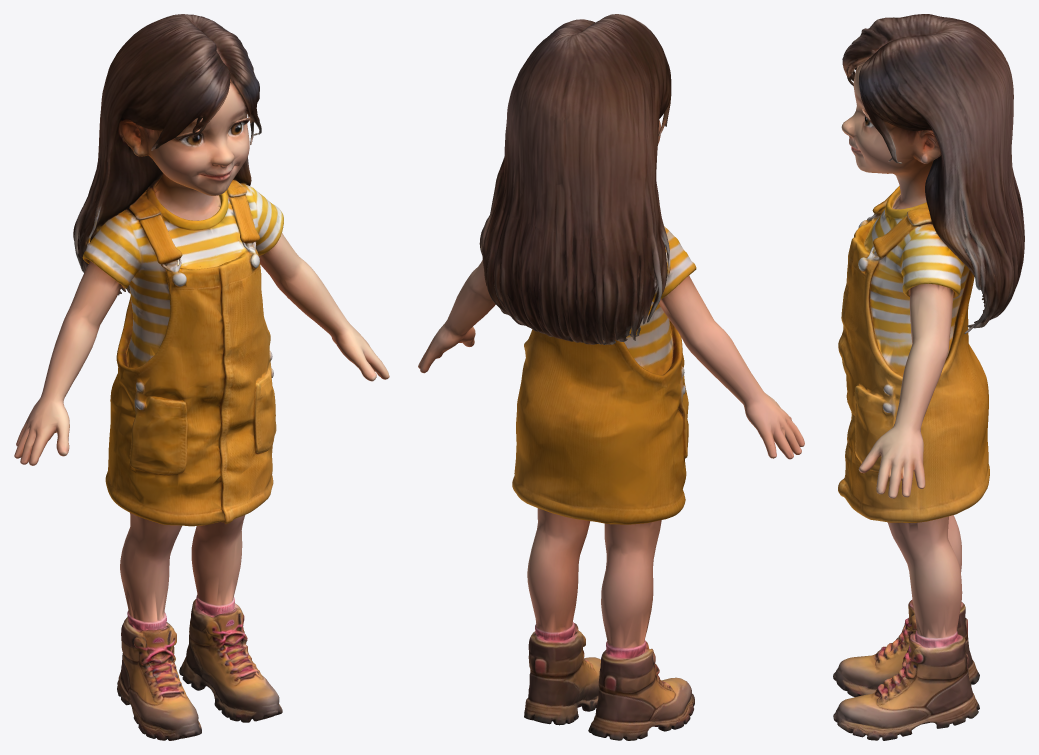
File: anet.glb
3 views of the same model, side by side, from view 1: azimuth 30°, elevation 25°; view 2: azimuth 150°, elevation 25°; view 3: azimuth 270°, elevation 25° (orthographic). The views are drawn at different scales.
Visible parts, largest first — view 1: tripo_node_09285ec5-164b-49de-99ac-8621db518d9a; view 2: tripo_node_09285ec5-164b-49de-99ac-8621db518d9a; view 3: tripo_node_09285ec5-164b-49de-99ac-8621db518d9a.
Boxes of the visible parts, x1,y1,x2,y2 form: tripo_node_09285ec5-164b-49de-99ac-8621db518d9a: (14,14,389,740); tripo_node_09285ec5-164b-49de-99ac-8621db518d9a: (418,14,804,740); tripo_node_09285ec5-164b-49de-99ac-8621db518d9a: (833,14,1024,740).
Bounding box in the file's own units: 0.8127 × 1.45 × 0.3643.
1 material, 1 textured.
